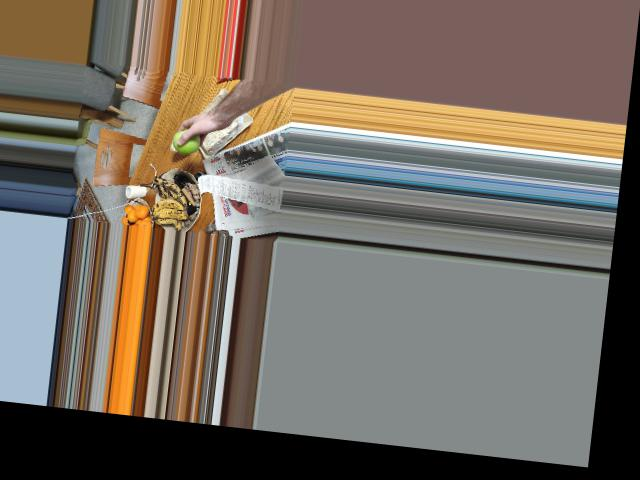apple: (171, 127, 203, 156)
